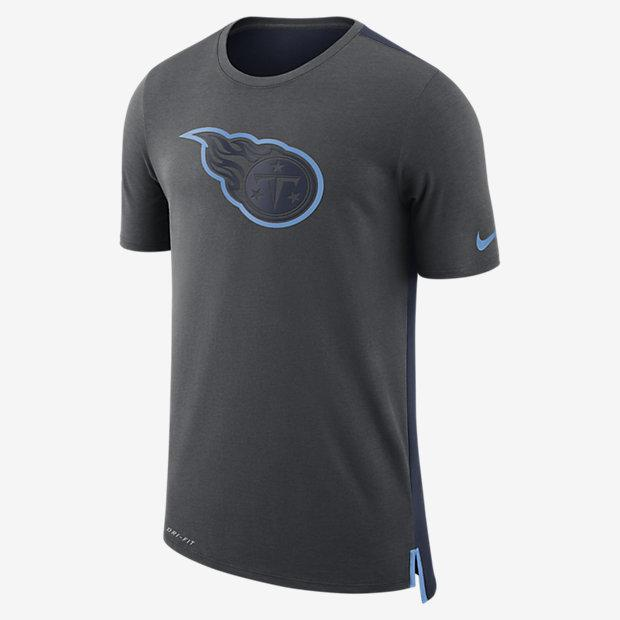teeshirt: (105, 3, 516, 620)
